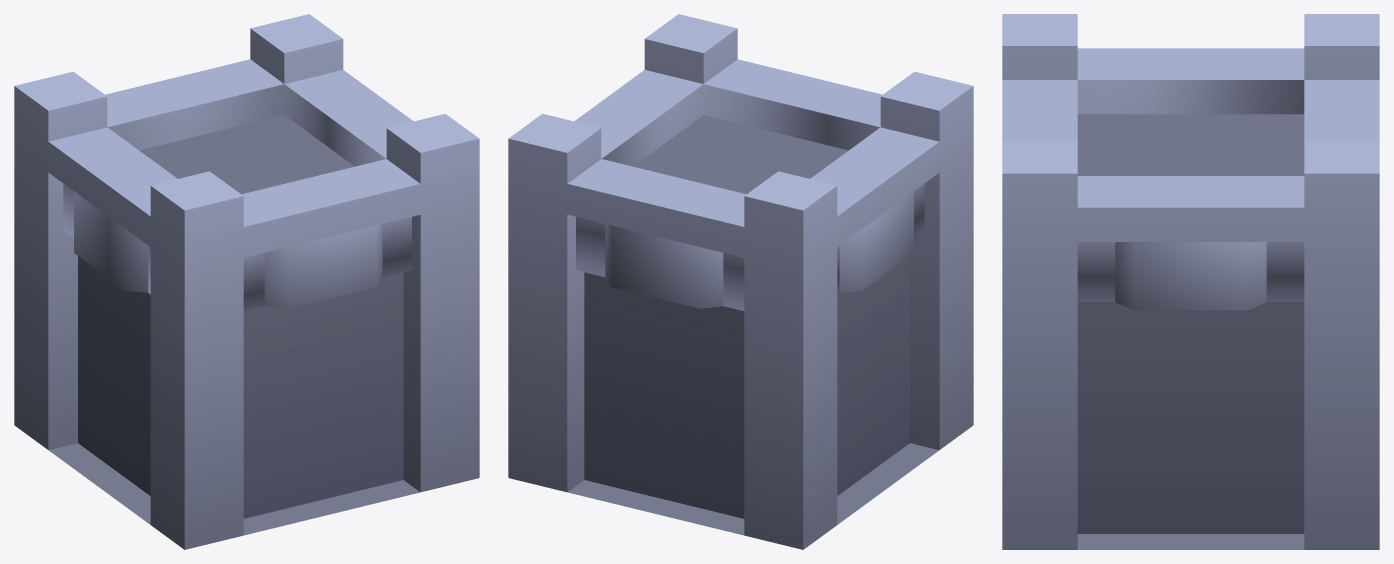
3 views of the same model, side by side, from view 1: azimuth 30°, elevation 25°; view 2: azimuth 150°, elevation 25°; view 3: azimuth 270°, elevation 25° (orthographic). The views are drawn at different scales.
Parts seen in each view (by area): view 1: wall; view 2: wall; view 3: wall.
Boxes of the visible parts, bbox=[...] form: wall: bbox=[14, 14, 479, 549]; wall: bbox=[508, 14, 973, 549]; wall: bbox=[1002, 14, 1379, 549].
Size of the model in its own units: 1 by 1.1 by 1.
Materials: 1 (1 with a texture image).
